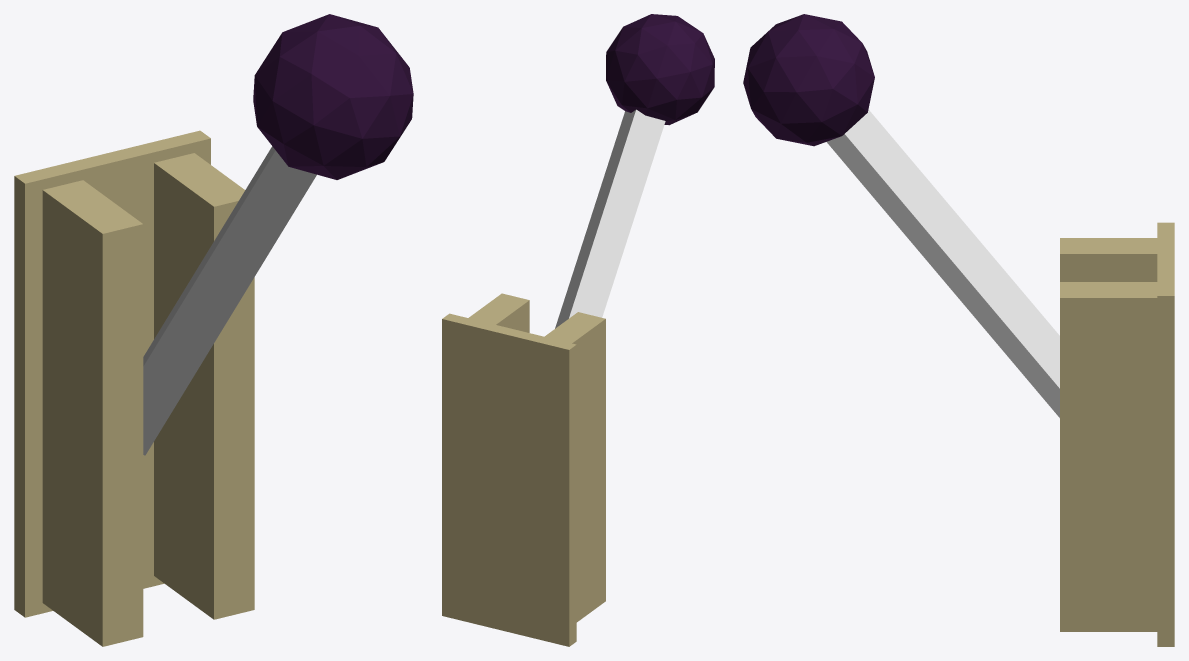
Rendered from lever_simple.fbx.
The picture shows the model from 3 angles, left to right: view 1: azimuth 30°, elevation 25°; view 2: azimuth 150°, elevation 25°; view 3: azimuth 270°, elevation 25°; orthographic projection. The views are drawn at different scales.
Parts seen in each view (by area): view 1: side_bracket.001, side_bracket, side_bracket.002, Knob, Arm; view 2: side_bracket.002, side_bracket.001, Knob, Arm, side_bracket; view 3: side_bracket, Arm, Knob, side_bracket.002, side_bracket.001.
Boxes of the visible parts, bbox=[...] form: side_bracket.001: bbox=[42, 180, 143, 646]; side_bracket: bbox=[154, 153, 254, 619]; side_bracket.002: bbox=[14, 130, 210, 617]; Knob: bbox=[253, 14, 413, 179]; Arm: bbox=[143, 146, 316, 455]; side_bracket.002: bbox=[442, 313, 576, 646]; side_bracket.001: bbox=[544, 312, 605, 622]; Knob: bbox=[606, 14, 714, 125]; Arm: bbox=[555, 109, 665, 328]; side_bracket: bbox=[468, 293, 529, 332]; side_bracket: bbox=[1060, 282, 1157, 631]; Arm: bbox=[826, 109, 1059, 417]; Knob: bbox=[743, 14, 874, 146]; side_bracket.002: bbox=[1157, 222, 1174, 646]; side_bracket.001: bbox=[1060, 238, 1157, 281].
Size of the model in its own units: 19.86 by 74.33 by 49.38.
